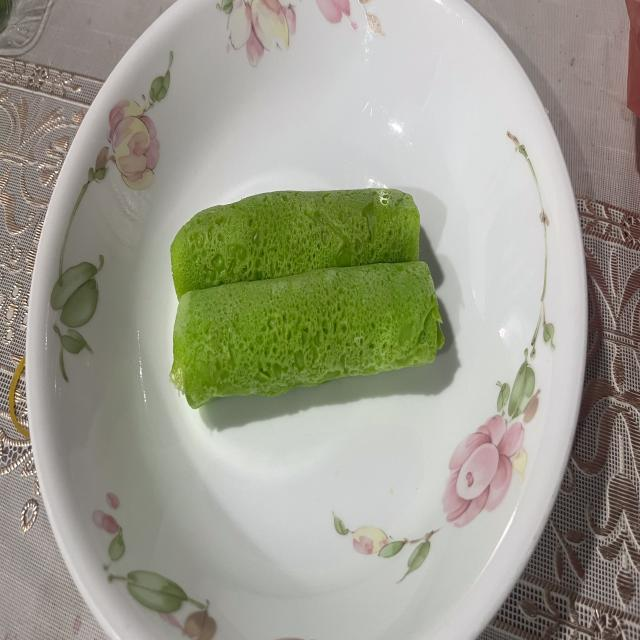Kuih-Ketayap: (170, 262, 442, 409), (171, 189, 420, 298)
